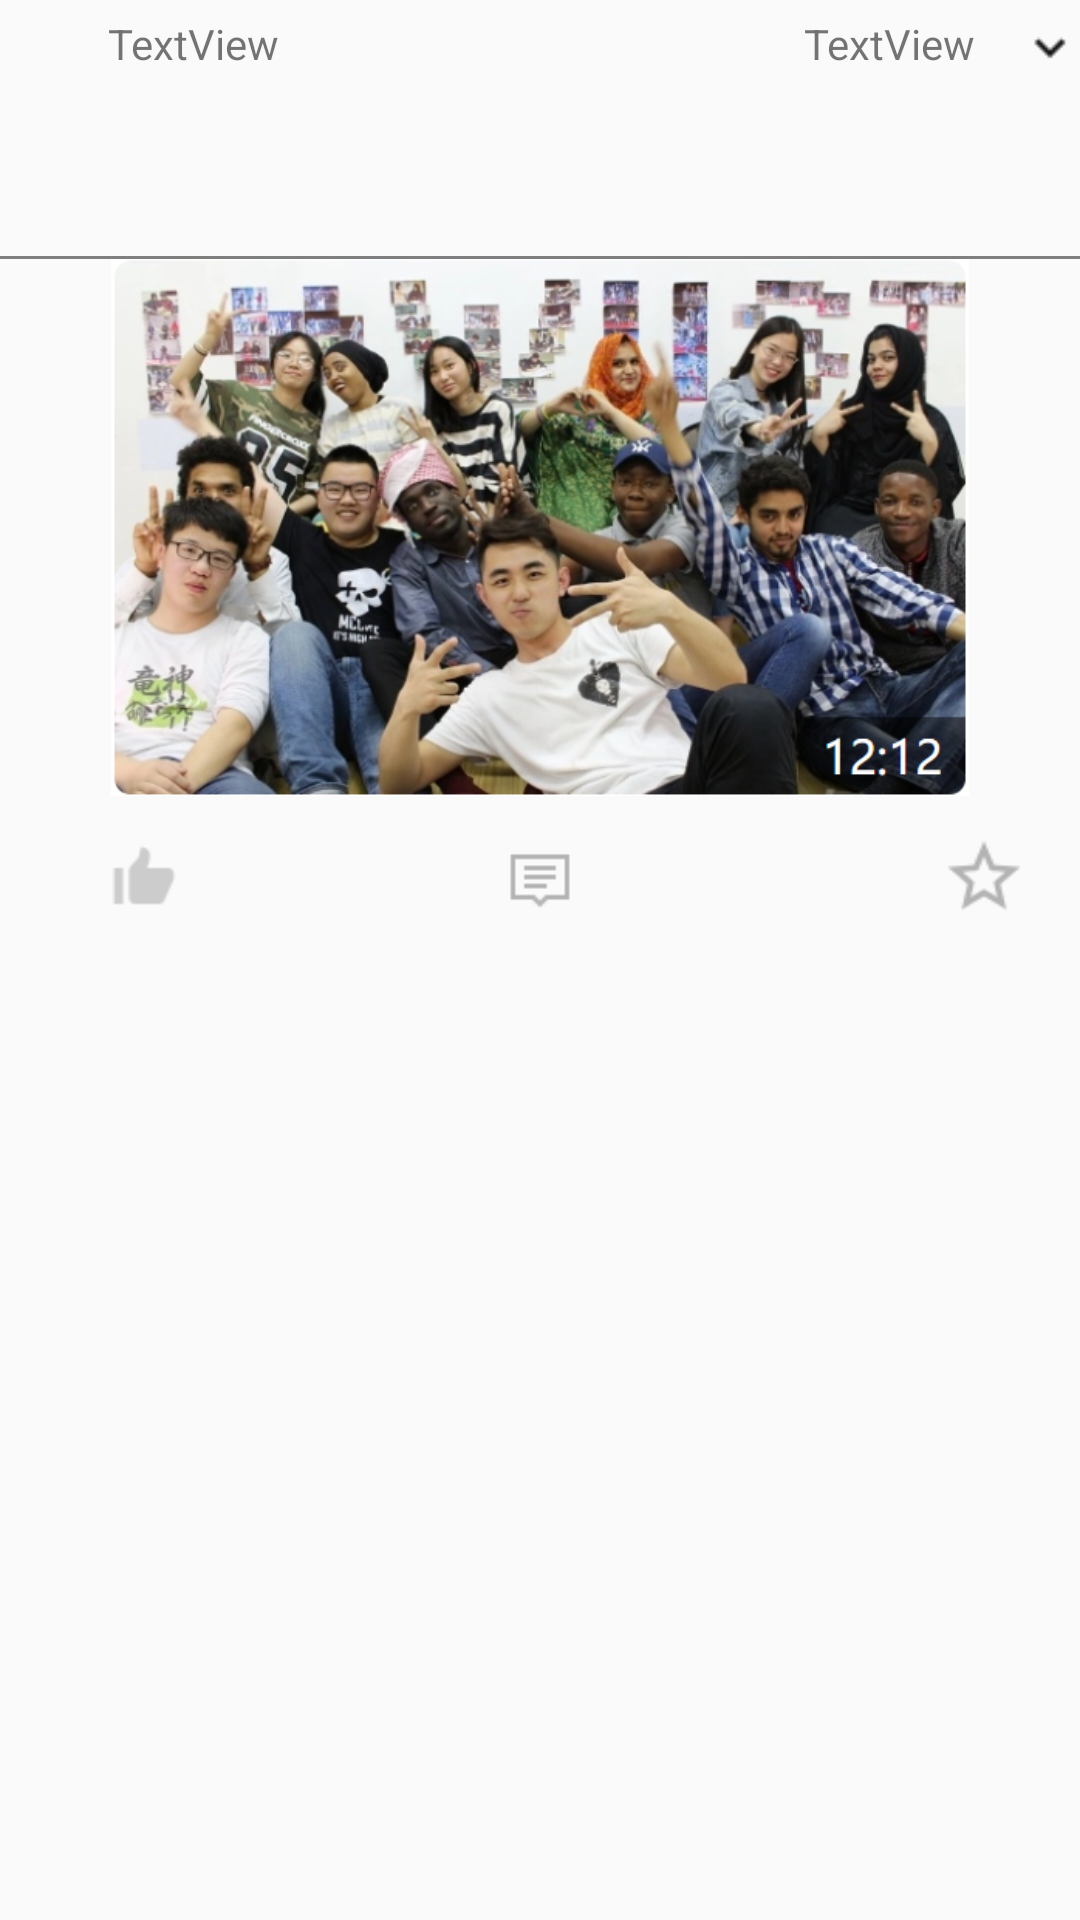

Named icons in this screenshot (1080 × 1920) and their centers, (x,y):
comments: (540,880)
expand: (1050,47)
like: (144,876)
star: (984,876)
